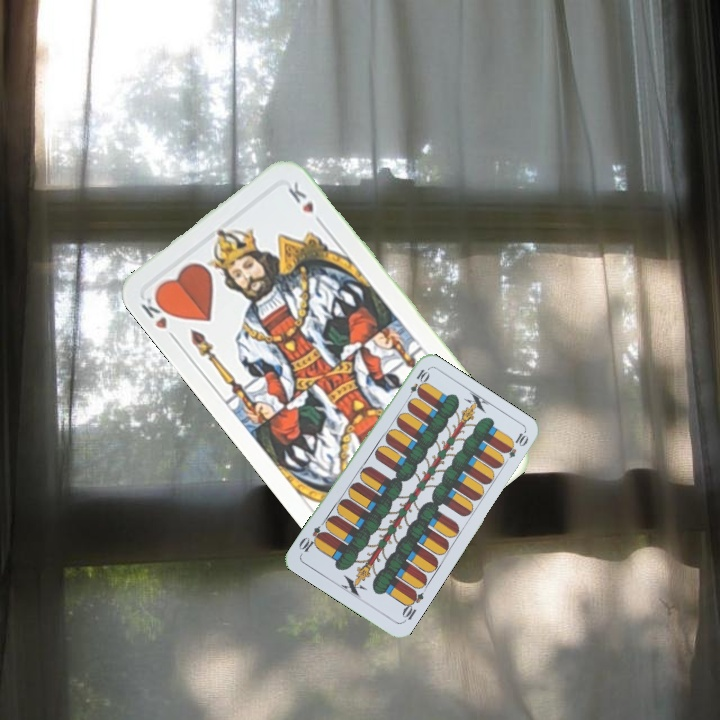E10: (398, 586, 426, 625), (403, 365, 431, 403)
HK: (137, 289, 180, 345)
